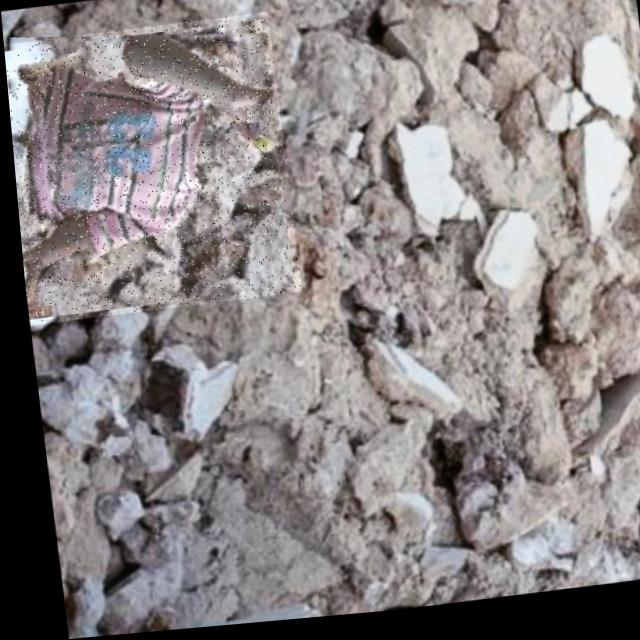Person in Rubble: (2, 16, 296, 325)
